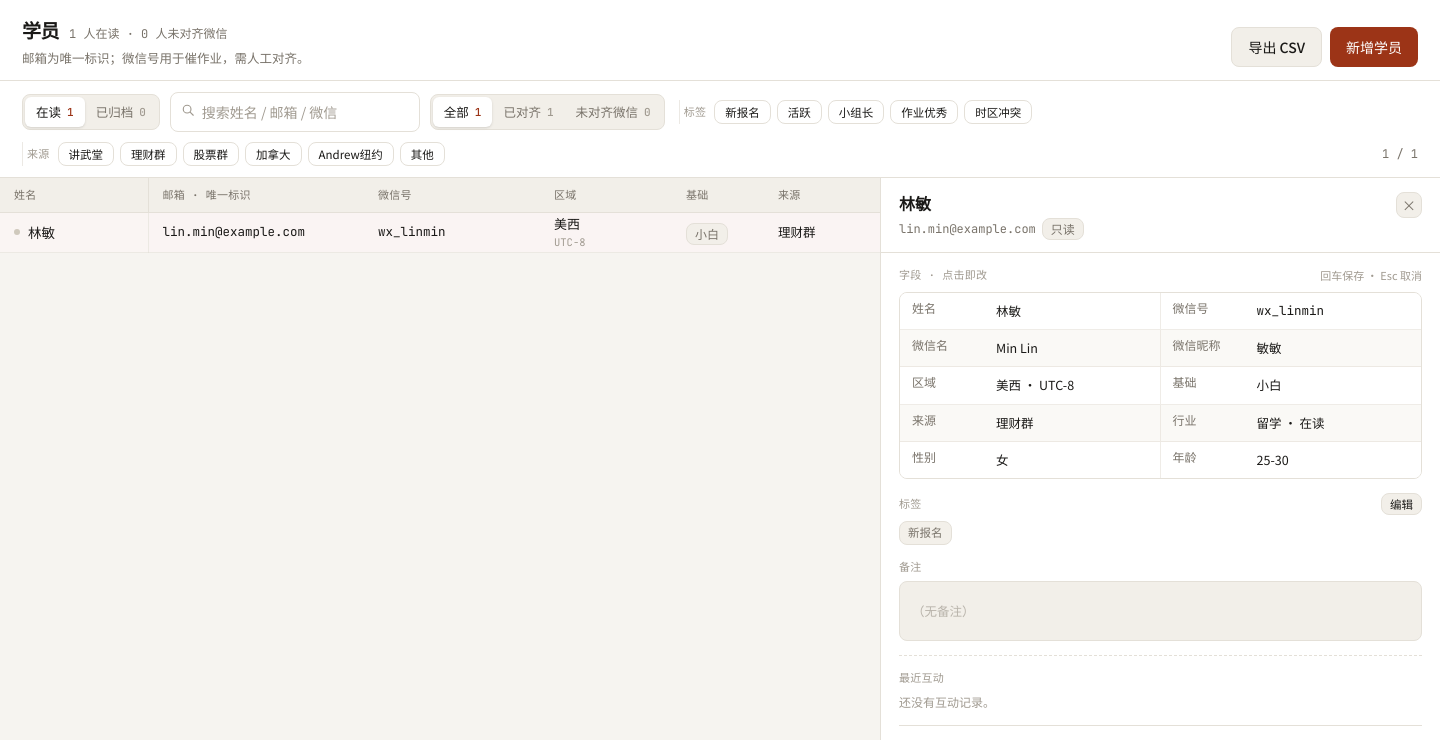
Test case: writes that are not plain text fields › surfaces a failed tag change instead of letting the pill snap back
Click the button "编辑" at (1402, 504), box [1381, 493, 1422, 515]
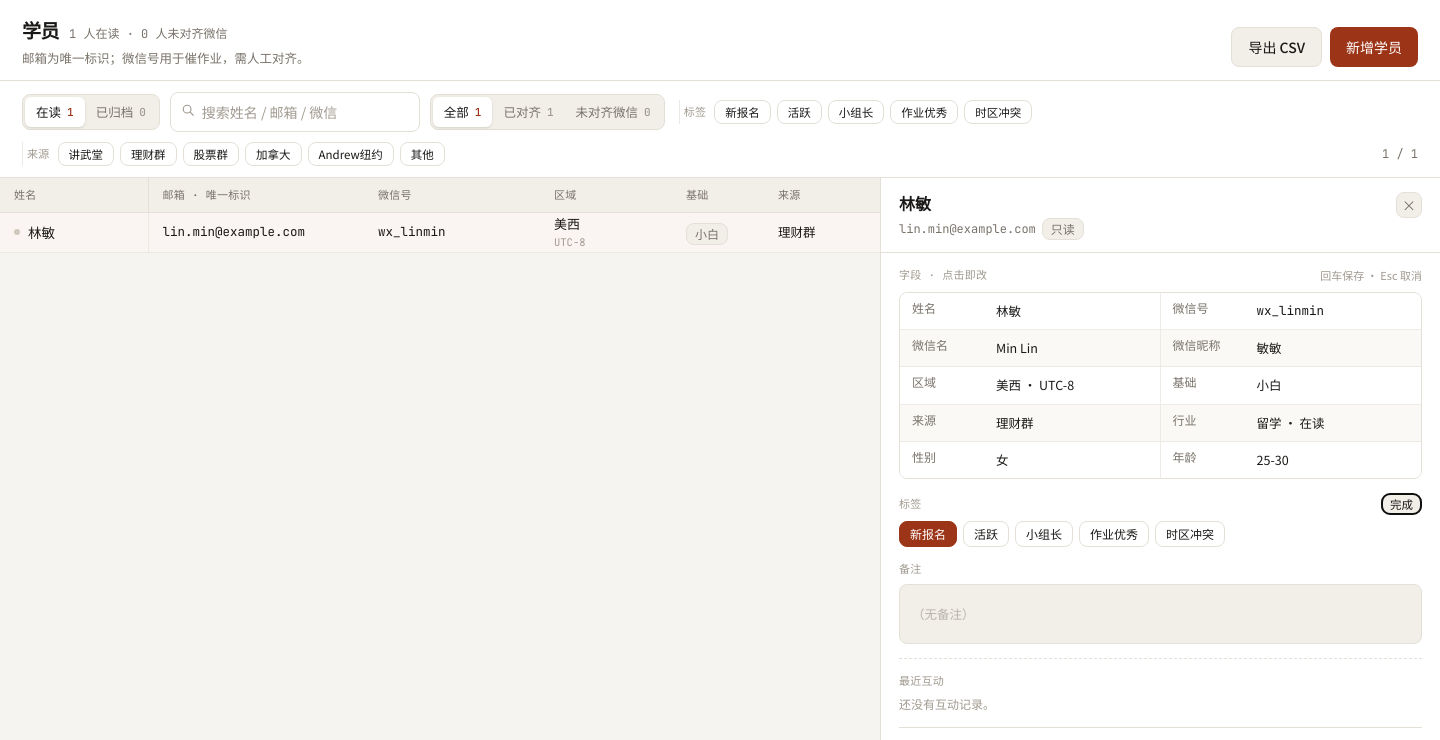
Click the button "活跃" below "性别" at (986, 534), box [963, 521, 1009, 547]
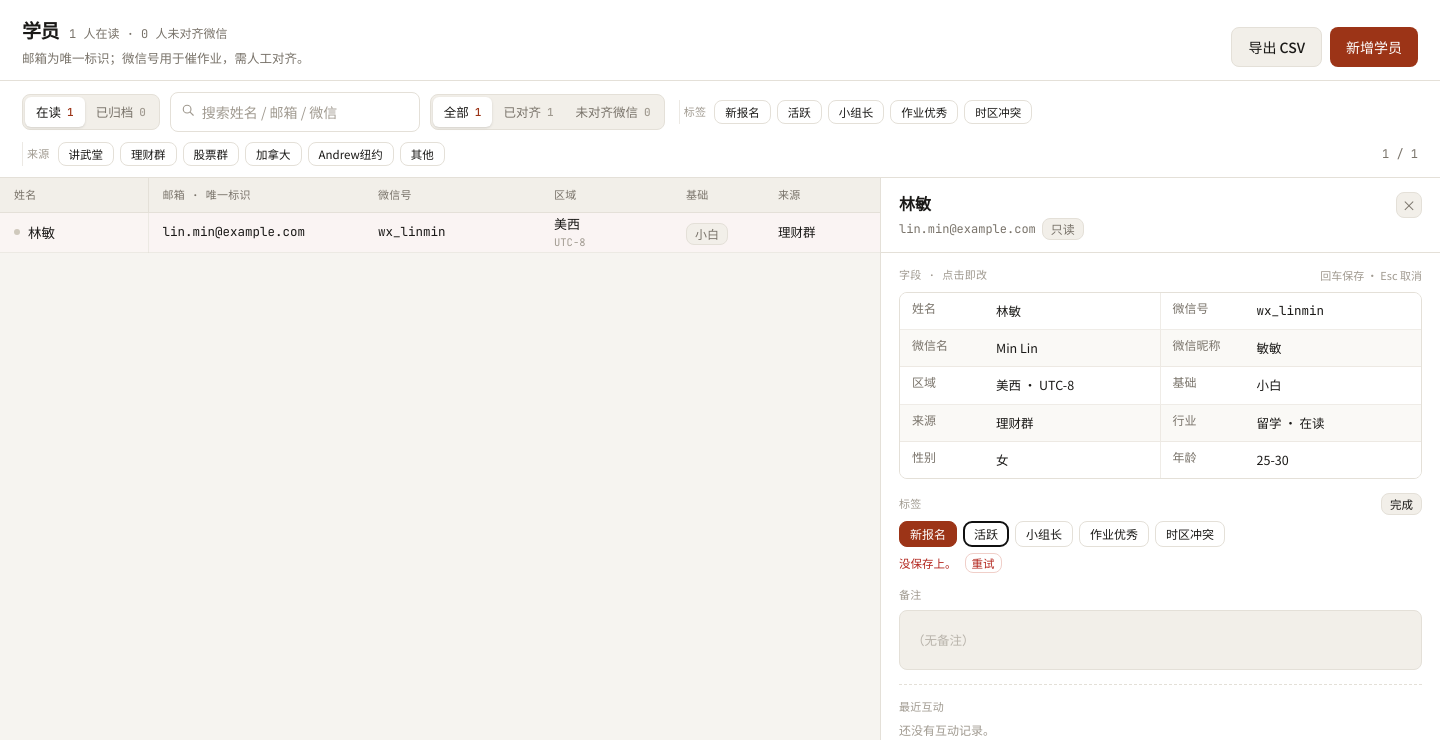
Now the text "没保存上。" is shown, box [899, 555, 956, 572]
Now the button "重试" is shown, box [964, 553, 1002, 573]
